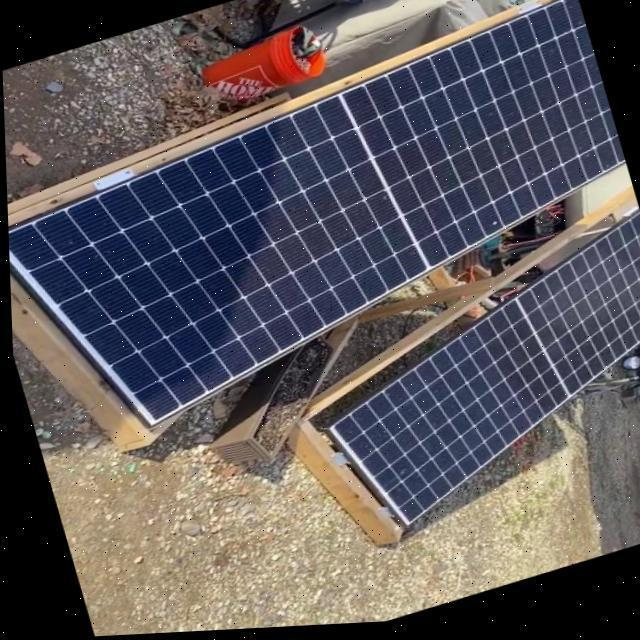Normal Solar Panel: (1, 0, 640, 457), (290, 220, 640, 546)
